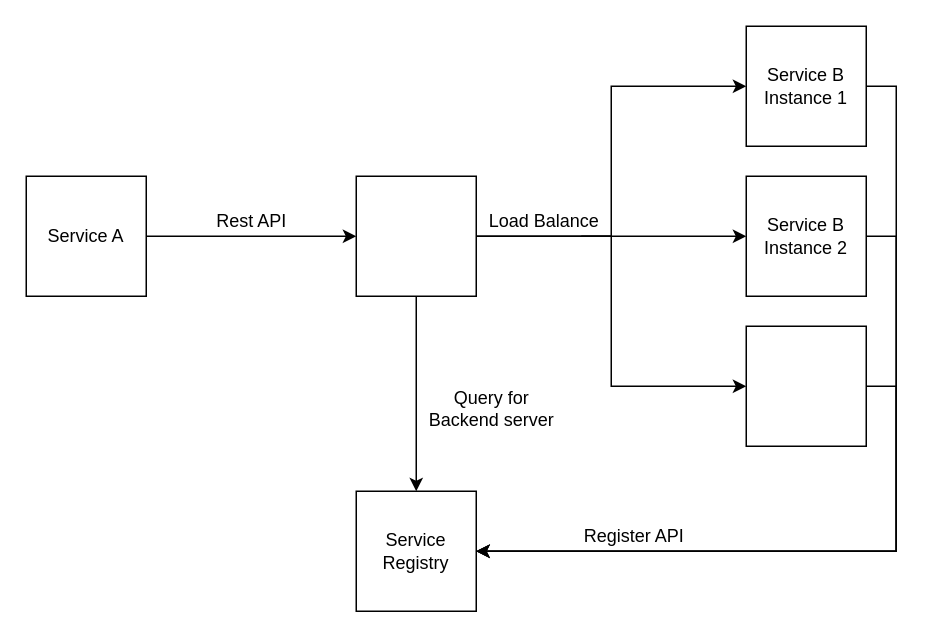
This 935x638 diagram has some shape labels left out. The shapes that lost their labels are listed below. From the top down, each one's centre as x and y in pixels, then its label:
(415,235): HA Proxy
(805,385): Service B Instance 3
